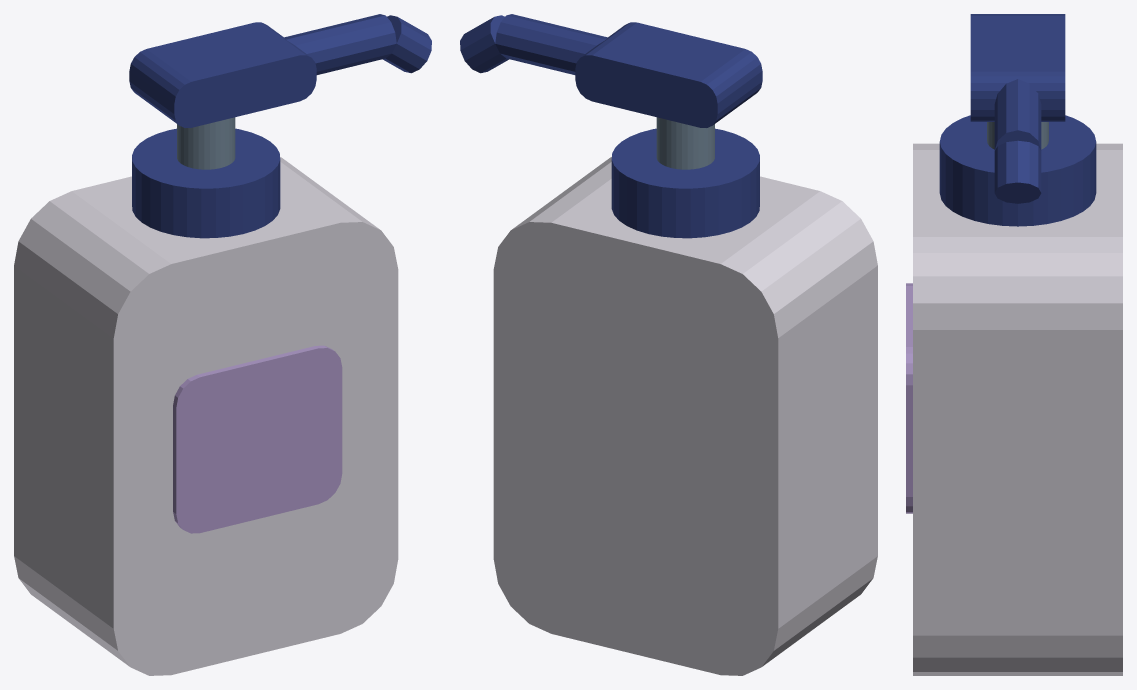
The model's file is pump.glb.
The picture shows the model from 3 angles, left to right: view 1: azimuth 30°, elevation 25°; view 2: azimuth 150°, elevation 25°; view 3: azimuth 270°, elevation 25°; orthographic projection. The views are drawn at different scales.
Visible parts, largest first — view 1: bottle body, label, pump head, neck, spout0, piston, spout1; view 2: bottle body, pump head, neck, spout0, piston, spout1; view 3: bottle body, neck, pump head, spout1, spout0, label, piston.
Part boxes in pixels (box(x1,y1,x2,y2)): bottle body: box(14, 157, 398, 675); label: box(173, 345, 342, 533); pump head: box(129, 22, 316, 127); neck: box(132, 128, 280, 238); spout0: box(284, 14, 396, 74); piston: box(177, 117, 235, 169); spout1: box(383, 15, 431, 73); bottle body: box(493, 157, 877, 675); pump head: box(575, 22, 762, 127); neck: box(611, 128, 759, 238); spout0: box(495, 14, 607, 74); piston: box(656, 117, 714, 169); spout1: box(460, 15, 508, 73); bottle body: box(913, 143, 1122, 675); neck: box(939, 115, 1096, 226); pump head: box(970, 14, 1065, 121); spout1: box(994, 140, 1041, 203); spout0: box(994, 79, 1041, 150); label: box(906, 283, 912, 513); piston: box(987, 122, 1048, 149).
Size of the model in its own units: 1.07 by 1.58 by 0.527.
